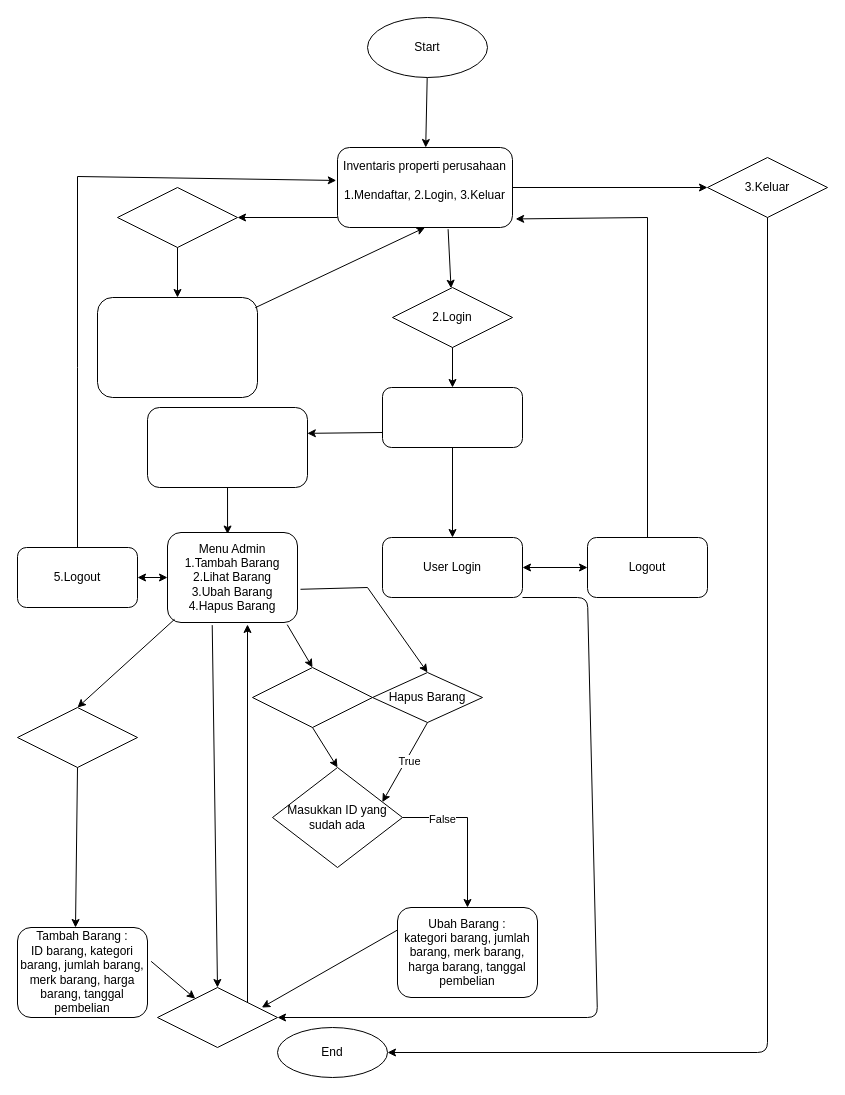
This 845x1095 diagram has some shape labels left out. The centre of each missing label's shape, as x and y in pixels:
"1.Mendaftar" goes at [177,217].
"Admin Login ( Masukkan username : admin Masukkan password : admin123 )" goes at [227,447].
"Lihat Barang" goes at [217,1017].
"Mendaftar Pengguna Baru 1.Masukkan username baru 2.Masukkan password baru" goes at [177,347].
"Tambah Barang" goes at [77,737].
"Ubah Barang" goes at [312,697].
"Username & Password" goes at [452,417].
